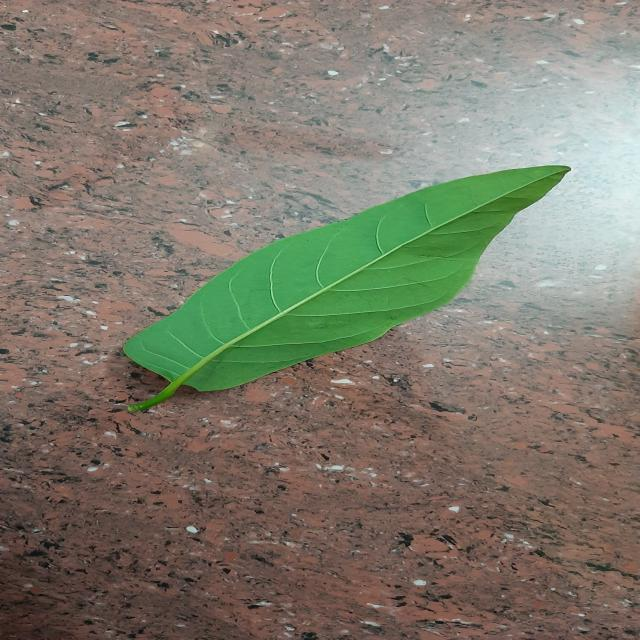seethaphala: (125, 165, 569, 412)
